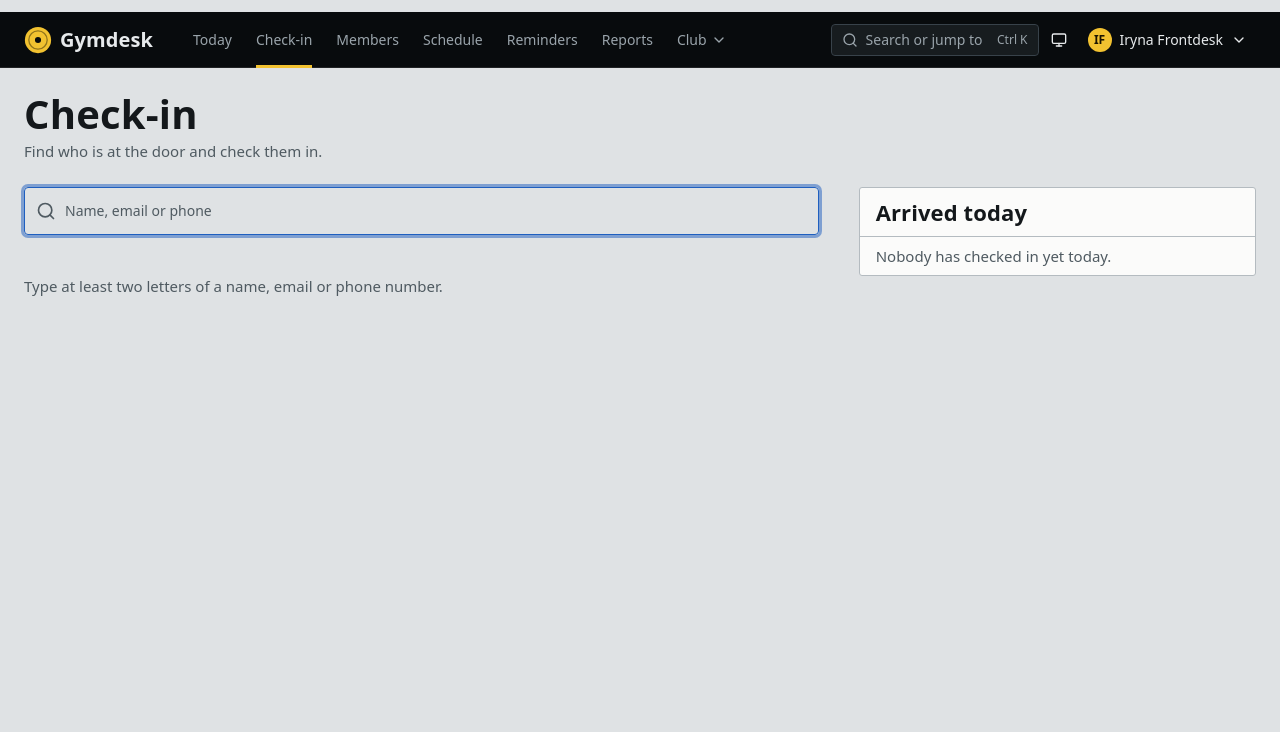
Test: checking someone in › checks in the first eligible match when Enter is pressed
expect the heading "Check-in" is shown: met, box [24,86,198,141]
Type "ta" into the search field named "Find a member" at (421, 210), box [24,186,819,234]
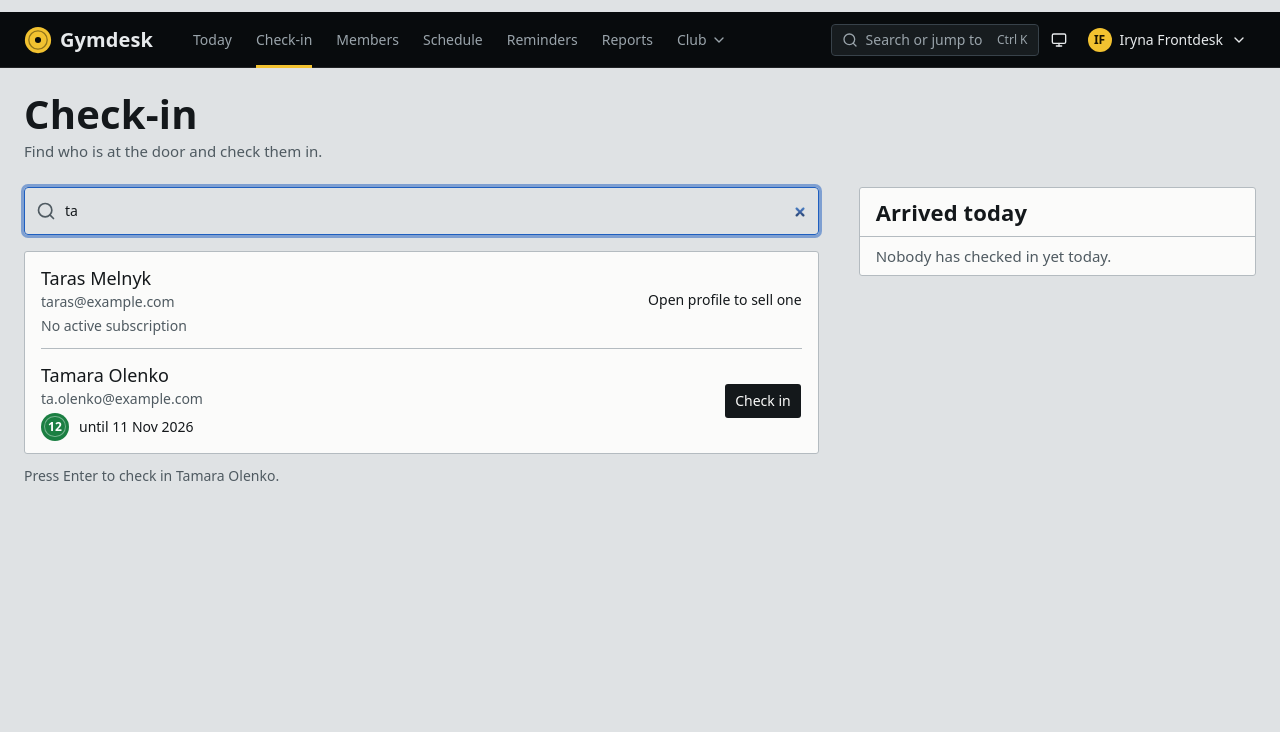
expect the link "Tamara Olenko" is shown: met, box [41,362,169,386]
Press Enter
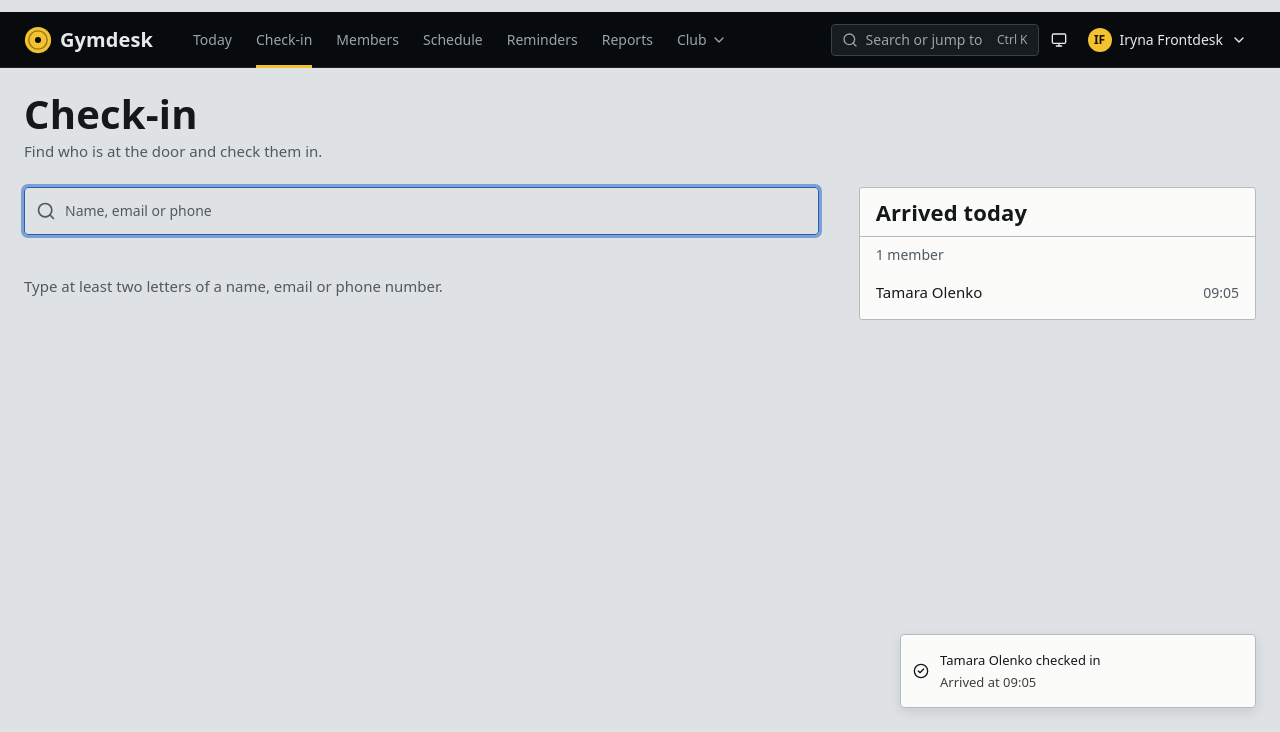
expect the text "Tamara Olenko checked in" is shown: met, box [940,651,1101,671]
